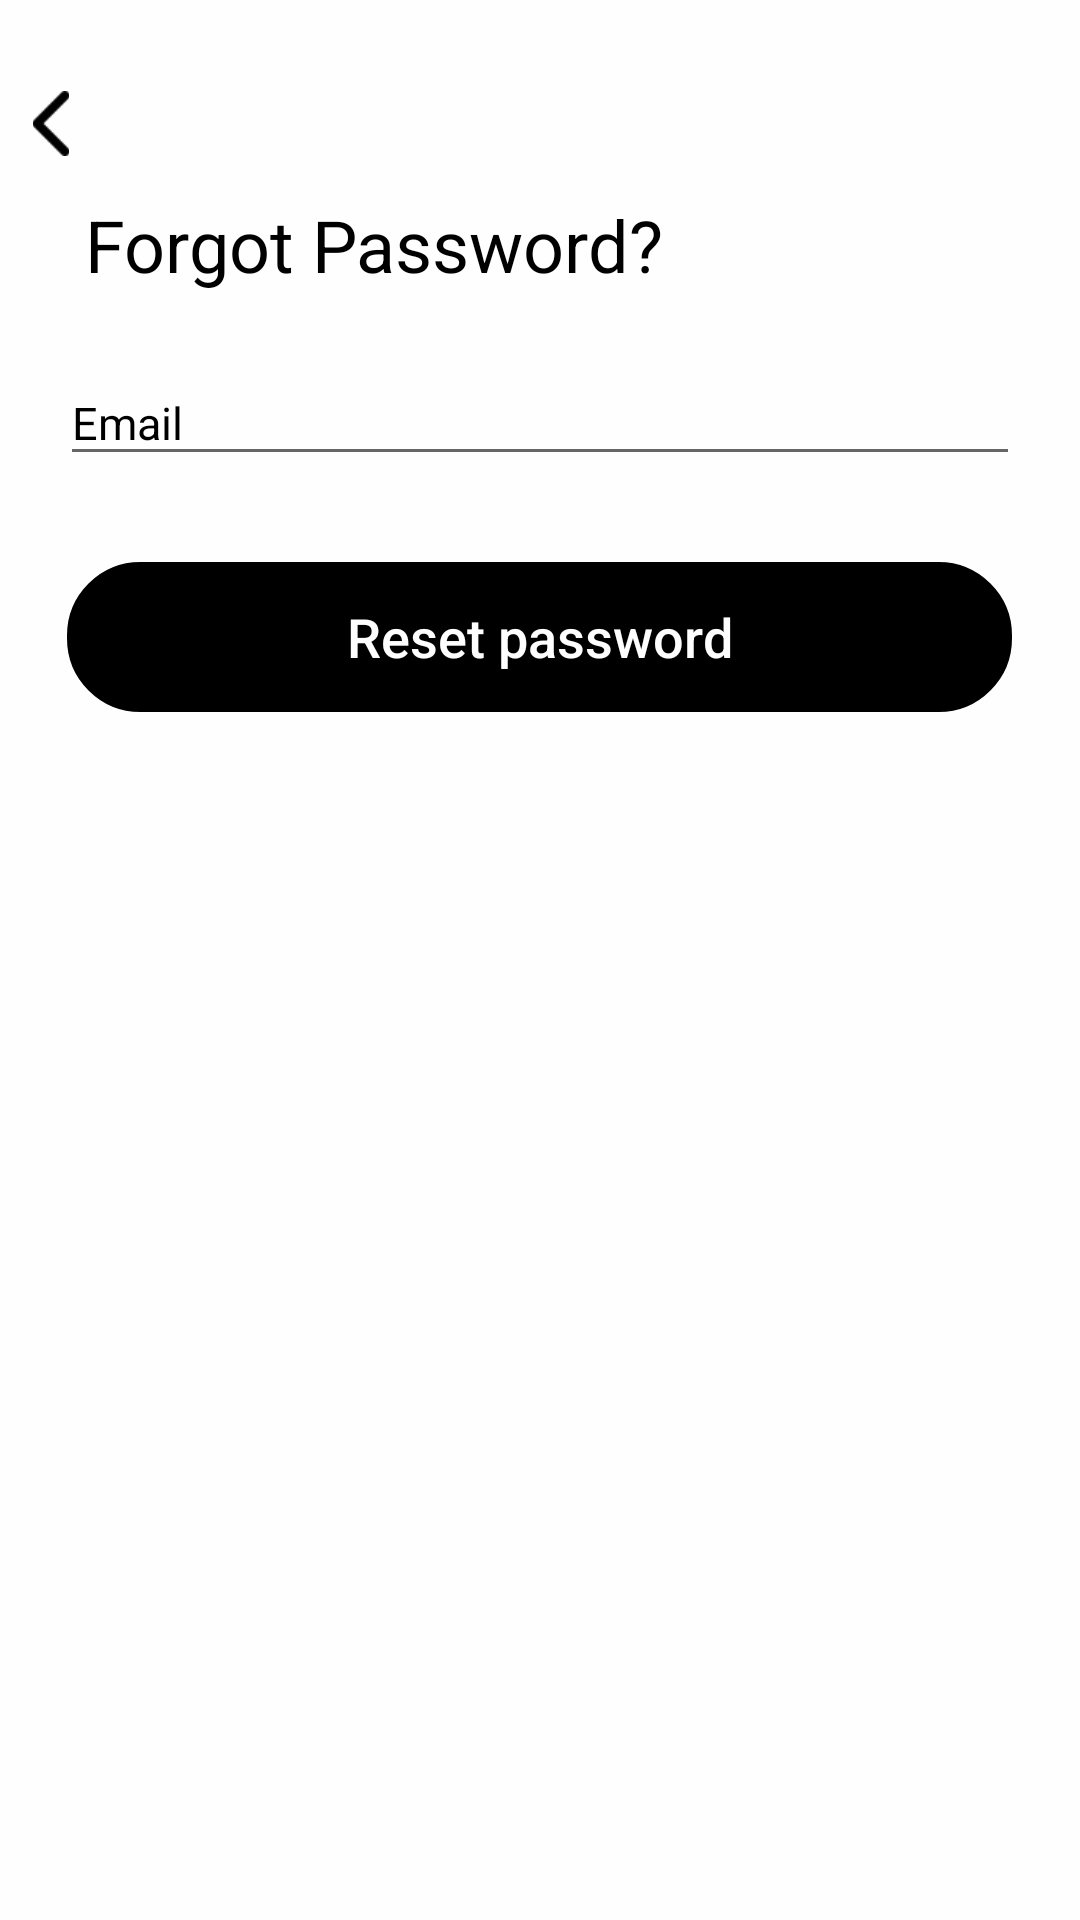

Icon bounding boxes for this 1080*1920 phone screenshot, format (x1, y1, x2, y2):
back: (33, 91, 69, 156)
